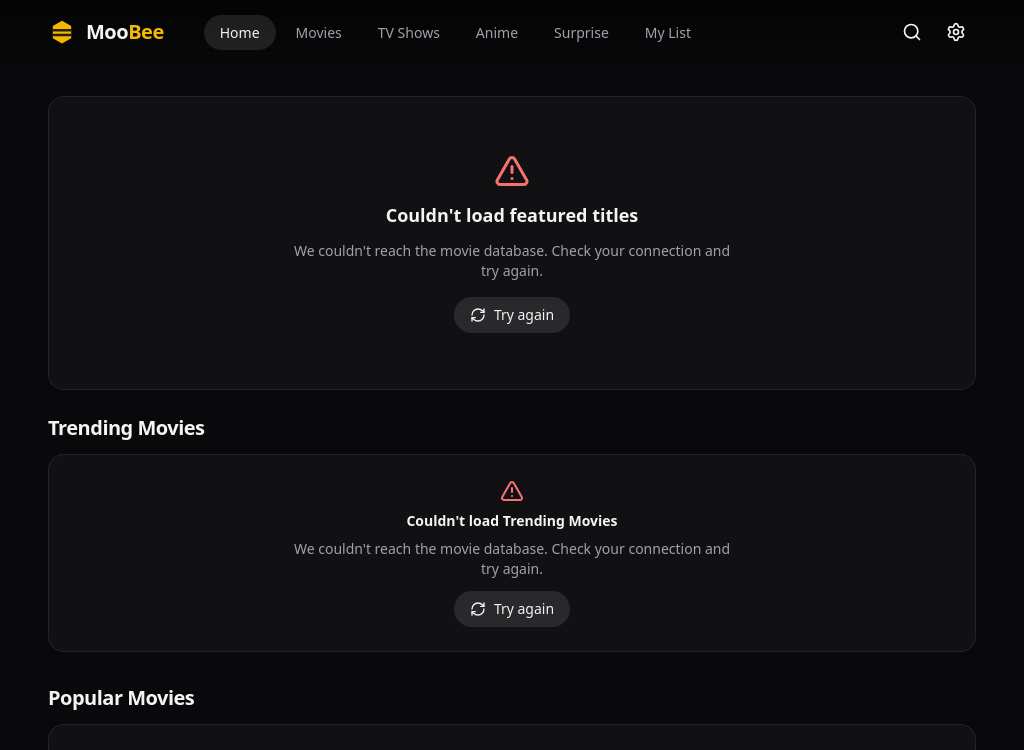
Test: Settings page › opens from the header and has its sections
The image size is (1024, 750).
Click the link named "Settings". click: (956, 32)
box: left=946, top=22, right=966, bottom=42
(page scrolled)
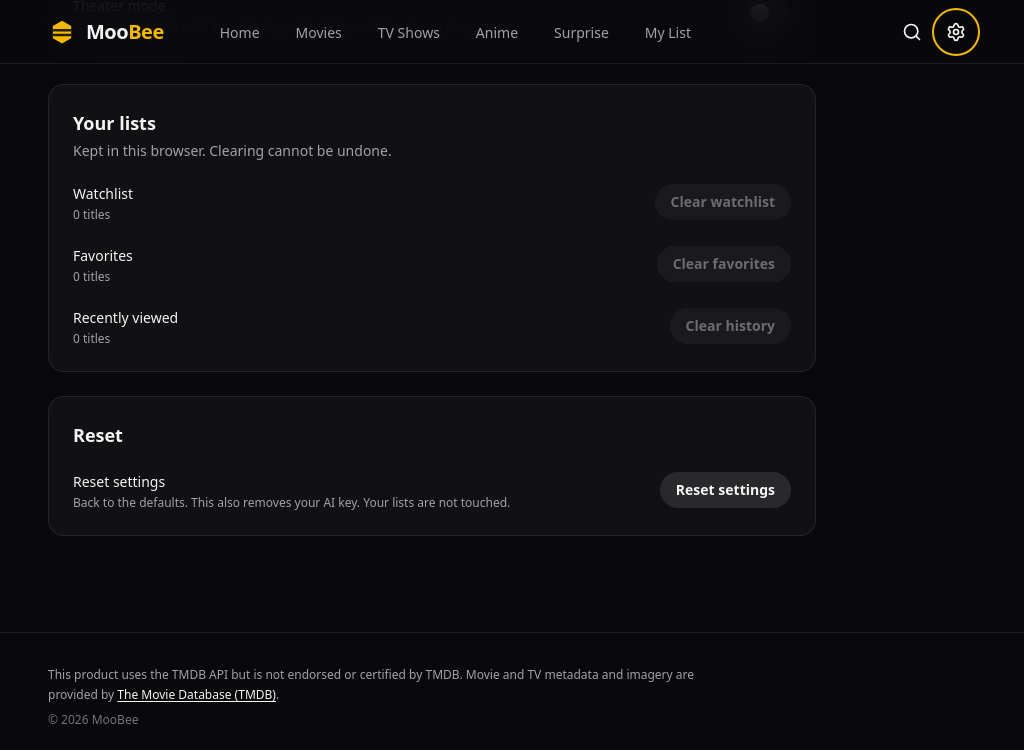
Now the element "Your lists" is shown, box left=48, top=84, right=816, bottom=372
Now the element "Reset" is shown, box left=48, top=396, right=816, bottom=536
